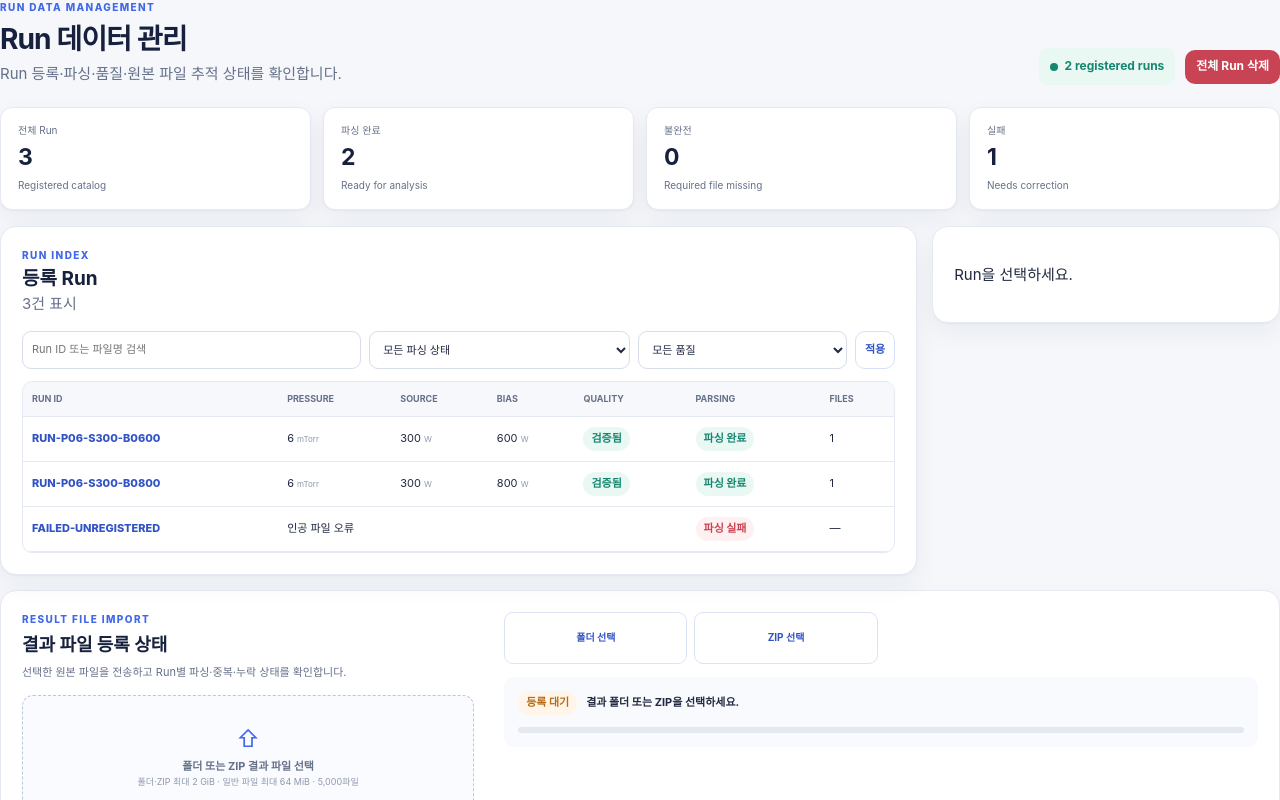
Test case: single deletion sends one Run ID and clears selected details and job inventory after refreshing both lists
The width and height of the screenshot is (1280, 800).
Click the button "RUN-P06-S300-B0600". click: (96, 439)
box: x1=32 y1=430 x2=160 y2=447
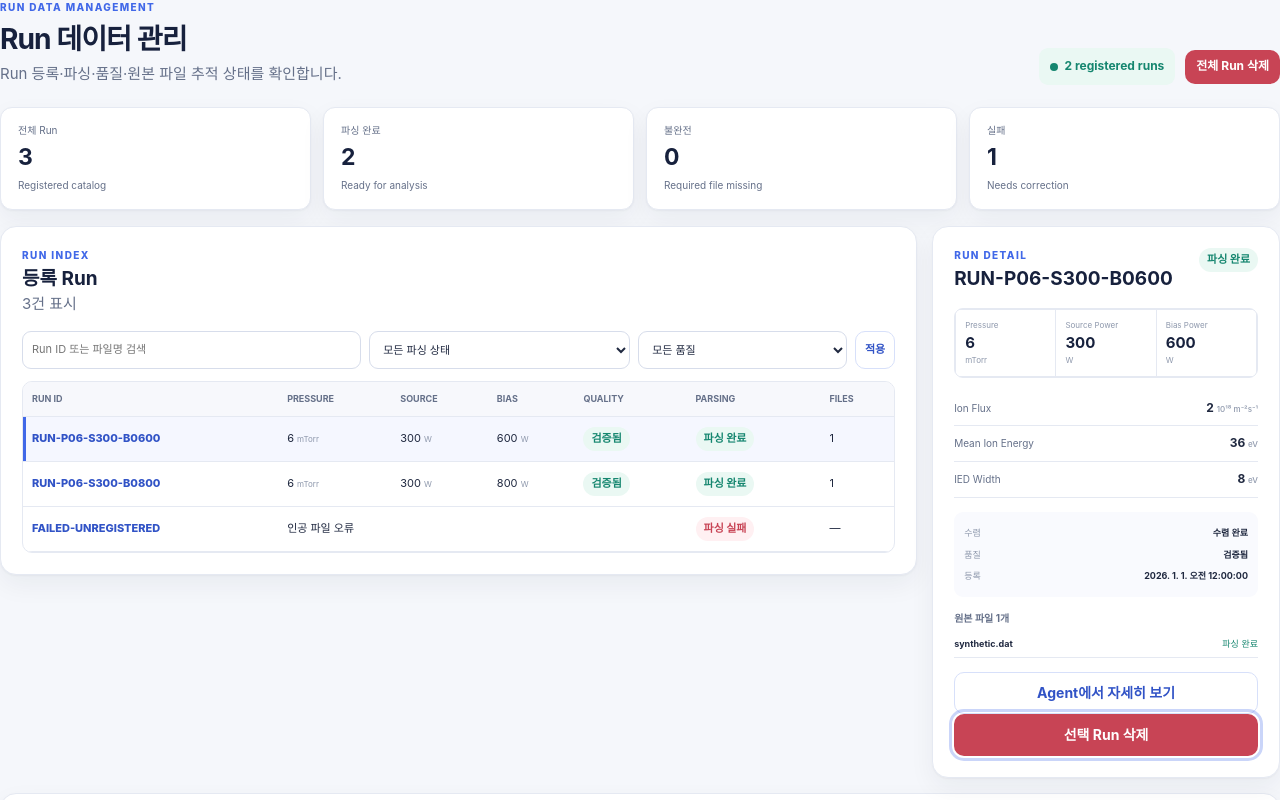
Click the button "선택 Run 삭제". click: (1106, 735)
box: x1=954 y1=714 x2=1258 y2=756
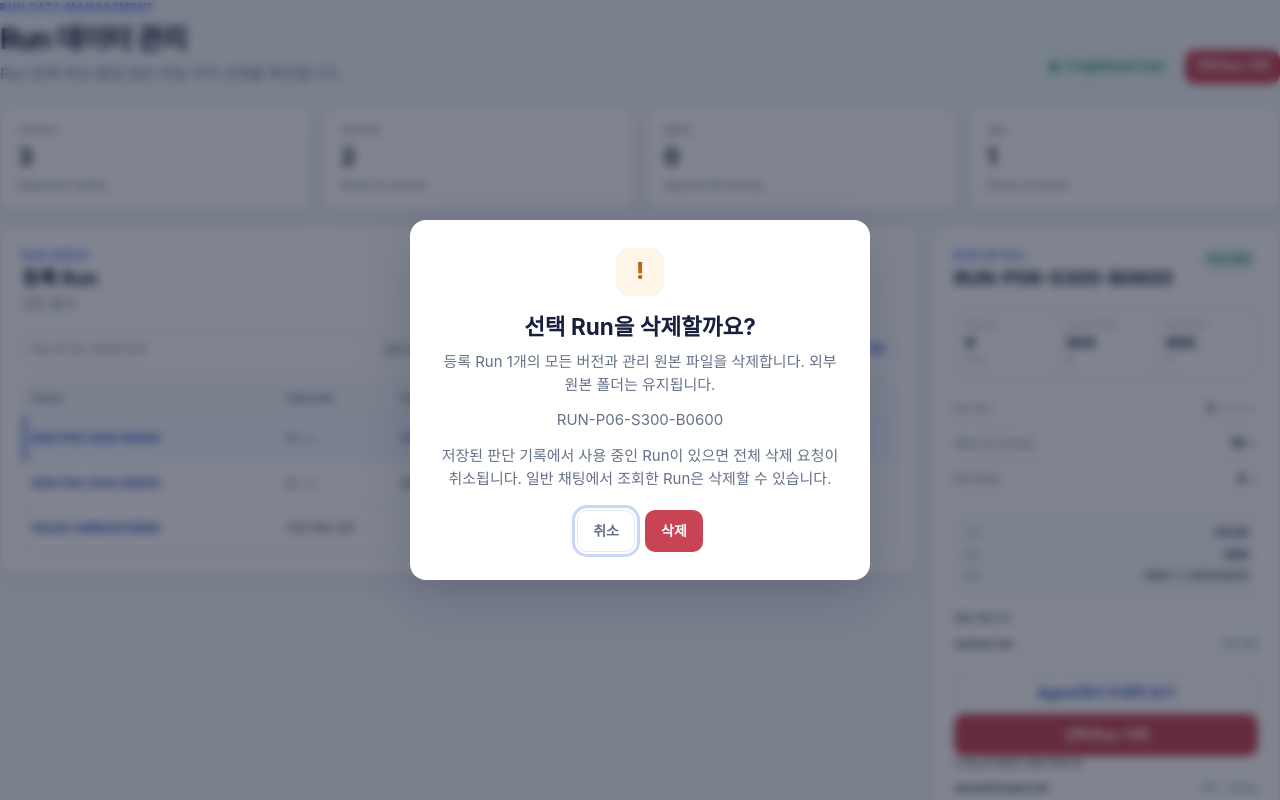
Check: the text "uploaded/original.dat" is shown, box x1=954 y1=781 x2=1049 y2=795
Click the button "삭제". click: (674, 531)
box: x1=645 y1=510 x2=703 y2=552
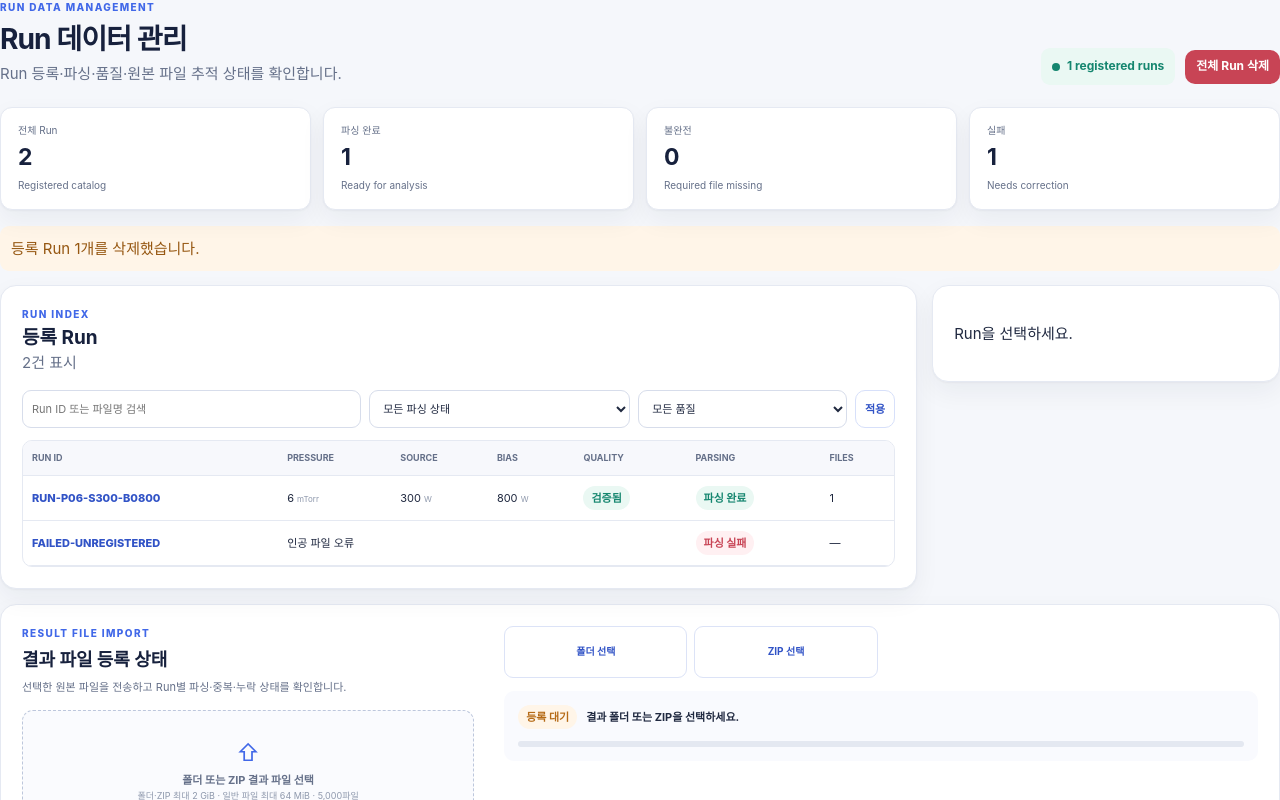
Check: the button "RUN-P06-S300-B0600" is gone
Check: the text "Run을 선택하세요." is shown, box x1=954 y1=324 x2=1073 y2=343
Check: the text "uploaded/original.dat" is gone
